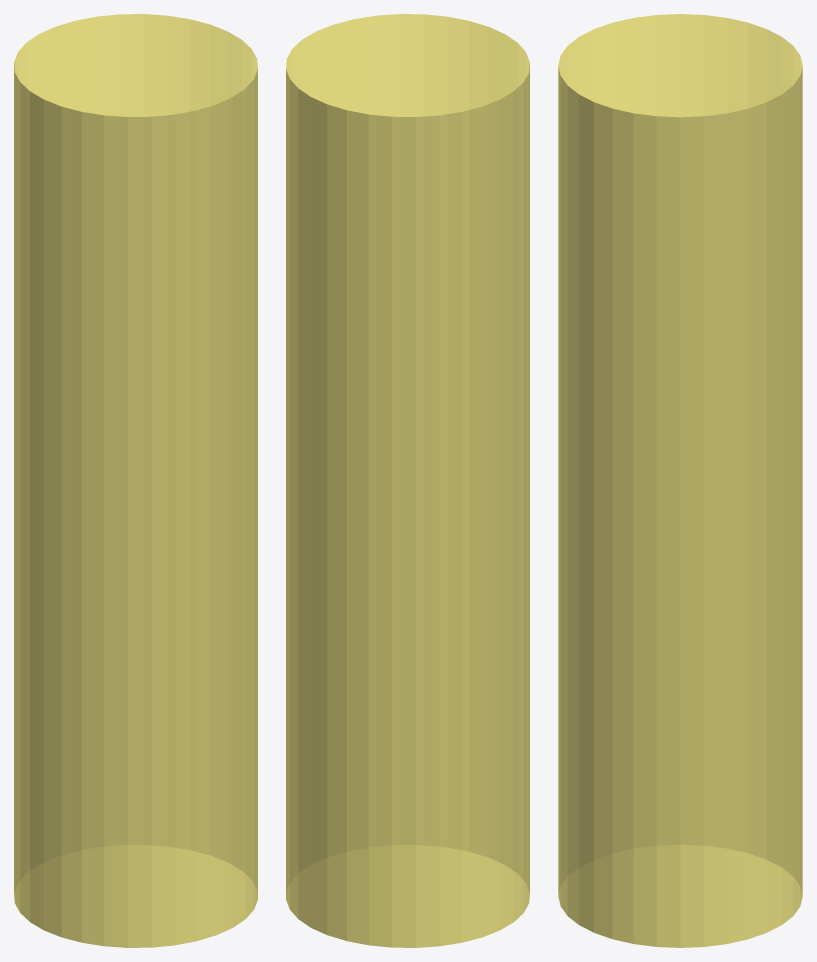
File: test collections2.glb
The picture shows the model from 3 angles, left to right: view 1: azimuth 30°, elevation 25°; view 2: azimuth 150°, elevation 25°; view 3: azimuth 270°, elevation 25°; orthographic projection.
Parts seen in each view (by area): view 1: TORCH_18; view 2: TORCH_18; view 3: TORCH_18.
Part boxes in pixels (bbox=[...]): TORCH_18: bbox=[14, 14, 257, 947]; TORCH_18: bbox=[286, 14, 529, 947]; TORCH_18: bbox=[558, 14, 802, 947].
Size of what is drawn, in the model's own units: 0.0256 by 0.0961 by 0.0256.
